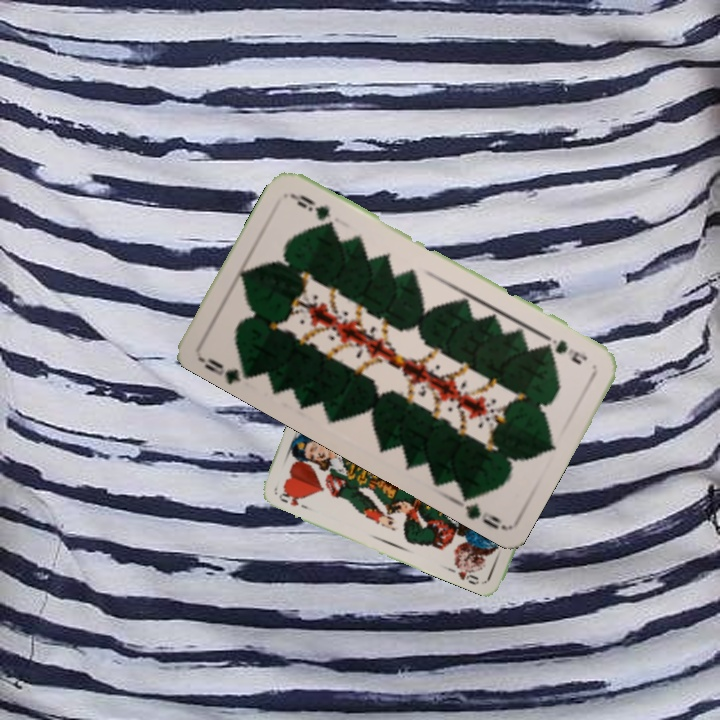G9: (196, 353, 256, 386), (540, 332, 590, 367)
HO: (275, 489, 312, 512)
